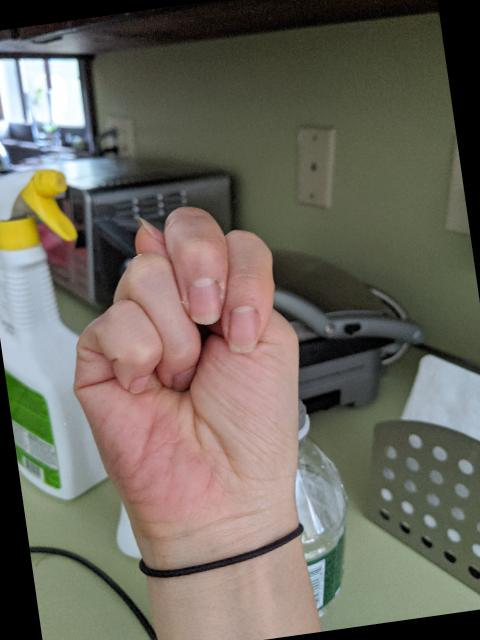N: (45, 186, 328, 554)
